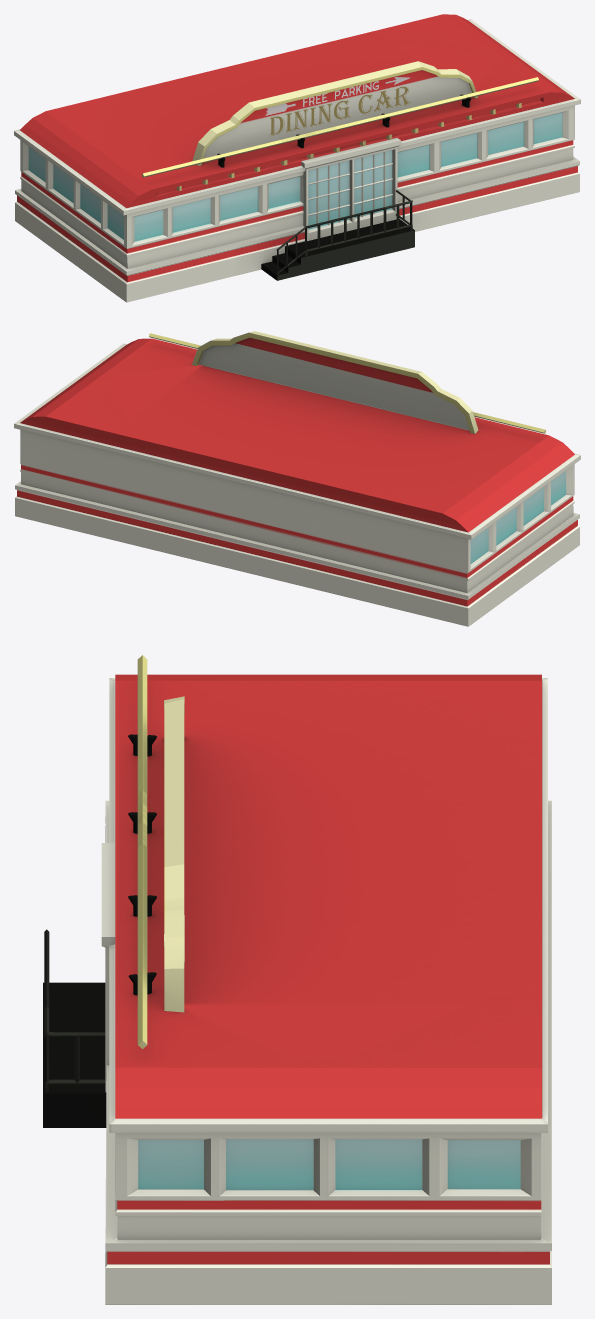
File: Diner.obj
3 views of the same model, one above another, from view 1: azimuth 30°, elevation 25°; view 2: azimuth 150°, elevation 25°; view 3: azimuth 270°, elevation 25° (orthographic). The views are drawn at different scales.
Parts seen in each view (by area): view 1: Diner_mesh; view 2: Diner_mesh; view 3: Diner_mesh.
Boxes of the visible parts, left/top/right/bottom form: Diner_mesh: left=14, top=14, right=580, bottom=302; Diner_mesh: left=14, top=331, right=580, bottom=626; Diner_mesh: left=43, top=655, right=551, bottom=1304.
Bounding box in the file's own units: 19.98 × 6.3 × 9.63.
1 material, 1 textured.
